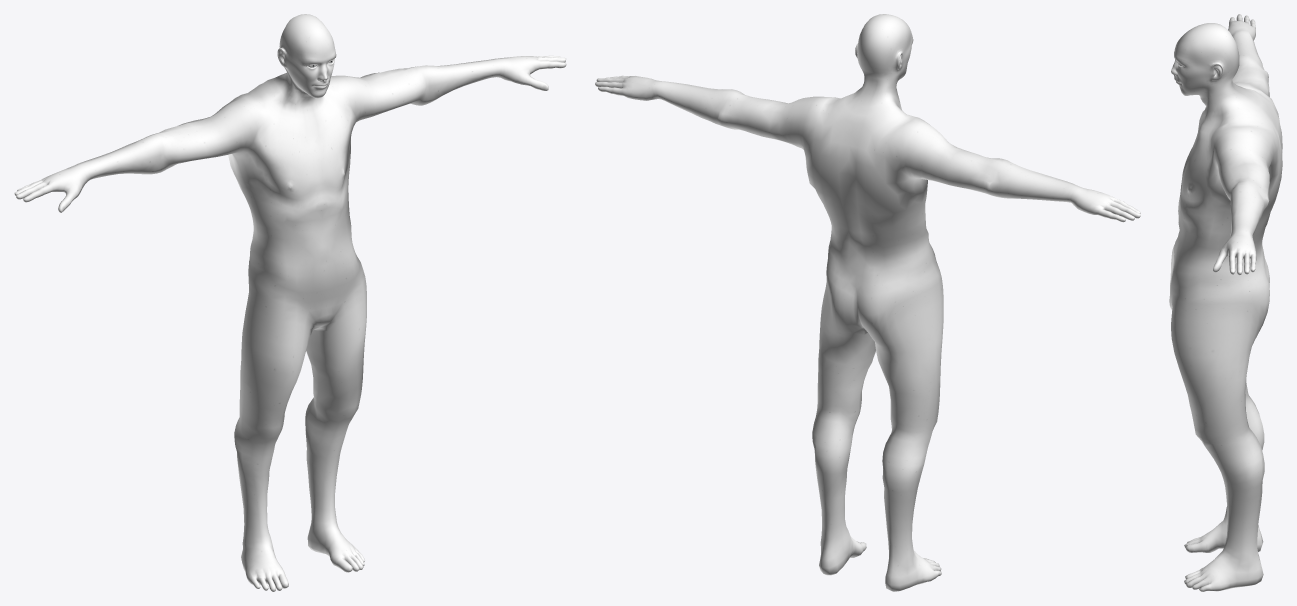
The model's file is Child.obj.
3 views of the same model, side by side, from view 1: azimuth 30°, elevation 25°; view 2: azimuth 150°, elevation 25°; view 3: azimuth 270°, elevation 25° (orthographic). The views are drawn at different scales.
Parts seen in each view (by area): view 1: Body; view 2: Body; view 3: Body.
Boxes of the visible parts, x1,y1,x2,y2 form: Body: [14, 14, 566, 591]; Body: [595, 14, 1140, 591]; Body: [1169, 14, 1282, 591].
Size of the model in its own units: 143 by 138 by 26.14.
1 material, 1 textured.
